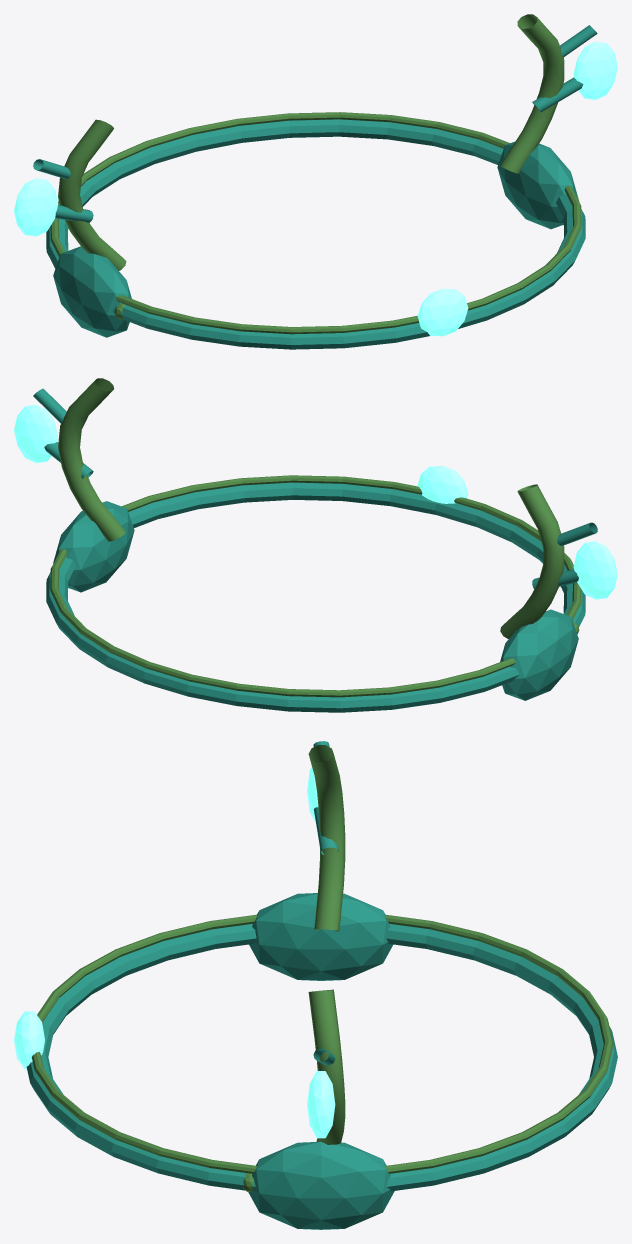
The model's file is helmet_aurora.glb.
The picture shows the model from 3 angles, top to bottom: view 1: azimuth 30°, elevation 25°; view 2: azimuth 150°, elevation 25°; view 3: azimuth 270°, elevation 25°; orthographic projection. The views are drawn at different scales.
Visible parts, largest first — view 1: AuroraCirclet, VineTrim, TempleGuard, TempleGuard.001, Antler.001, Antler, LeafBud, LeafBud.001, FrontGem, LeafBranch.002, LeafBranch.003; view 2: AuroraCirclet, VineTrim, TempleGuard, TempleGuard.001, Antler.001, Antler, LeafBud, LeafBud.001, FrontGem, LeafBranch.001, LeafBranch.003; view 3: AuroraCirclet, TempleGuard.001, VineTrim, TempleGuard, Antler, Antler.001, LeafBud.001, FrontGem.
Boxes of the visible parts, <box> form: AuroraCirclet: <box>46,119,585,349</box>; VineTrim: <box>50,112,581,334</box>; TempleGuard: <box>53,246,131,337</box>; TempleGuard.001: <box>497,141,578,229</box>; Antler.001: <box>500,14,564,173</box>; Antler: <box>58,119,126,270</box>; LeafBud: <box>14,178,58,236</box>; LeafBud.001: <box>573,41,617,99</box>; FrontGem: <box>417,288,468,336</box>; LeafBranch.002: <box>532,77,583,111</box>; LeafBranch.003: <box>560,25,597,57</box>; AuroraCirclet: <box>46,482,585,712</box>; VineTrim: <box>50,475,581,697</box>; TempleGuard: <box>500,609,578,700</box>; TempleGuard.001: <box>53,501,134,592</box>; Antler.001: <box>58,378,126,541</box>; Antler: <box>500,484,564,638</box>; LeafBud: <box>573,541,617,599</box>; LeafBud.001: <box>14,405,58,463</box>; FrontGem: <box>417,466,468,503</box>; LeafBranch.001: <box>557,522,597,545</box>; LeafBranch.003: <box>33,388,66,423</box>; AuroraCirclet: <box>26,923,617,1191</box>; TempleGuard.001: <box>248,1141,394,1229</box>; VineTrim: <box>31,914,613,1173</box>; TempleGuard: <box>249,893,393,980</box>; Antler: <box>308,745,345,931</box>; Antler.001: <box>308,989,345,1144</box>; LeafBud.001: <box>307,1071,335,1138</box>; FrontGem: <box>14,1011,44,1069</box>.
Size of the model in its own units: 1.55 by 0.5091 by 1.17.
